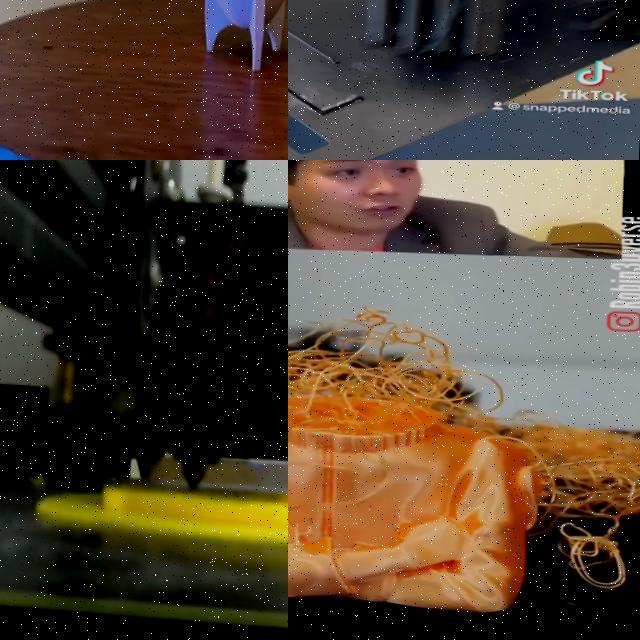spaghetti: (288, 308, 640, 589), (288, 337, 640, 590)
